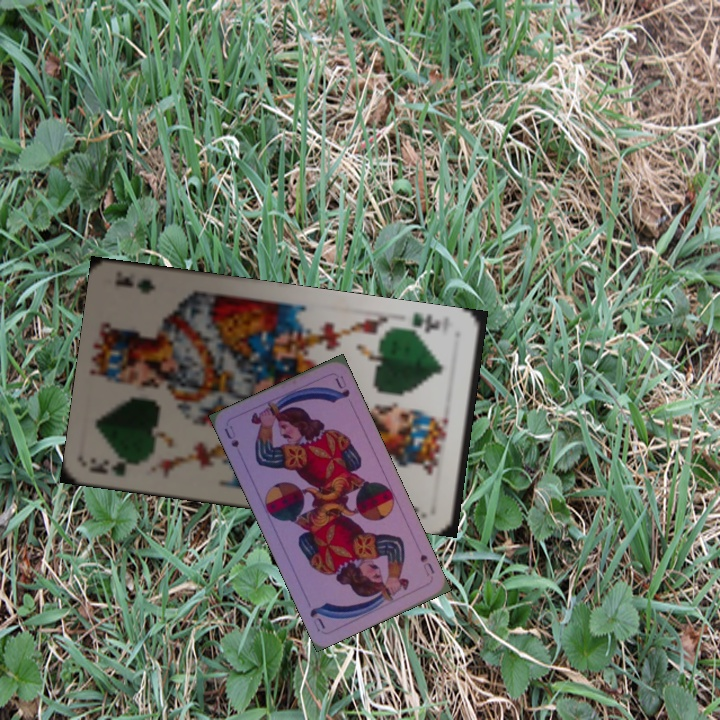GK: (86, 454, 147, 479), (399, 309, 443, 336)
SU: (220, 421, 242, 450), (416, 550, 437, 578)
